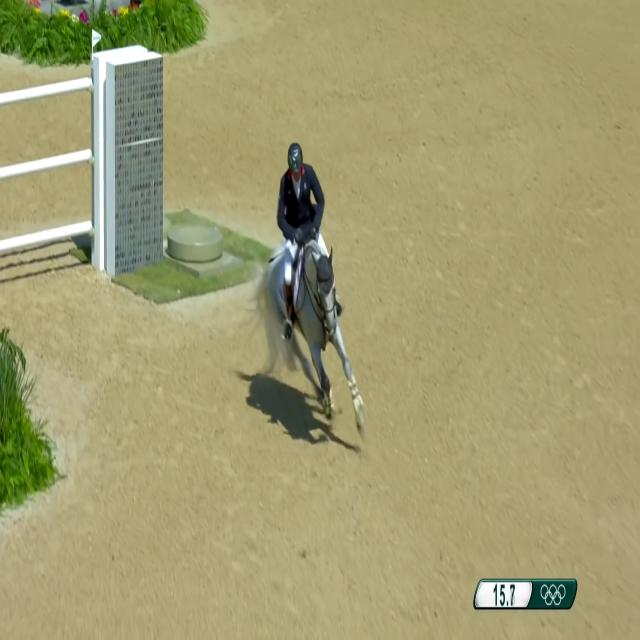Horse Rider: (266, 106, 324, 290)
Horse Running: (242, 210, 356, 438)
